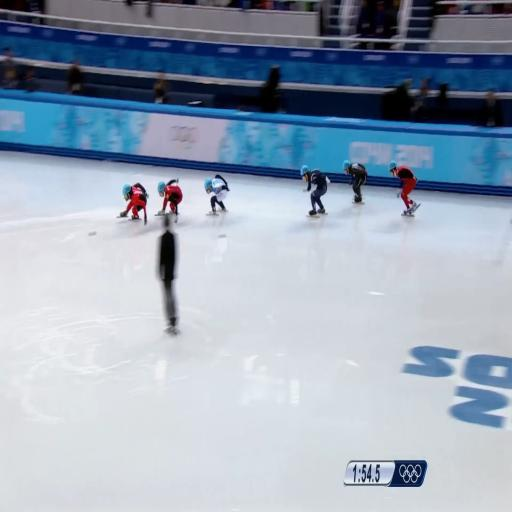Skater: (389, 161, 420, 216), (301, 165, 329, 216), (119, 183, 148, 224), (157, 179, 182, 222), (344, 160, 367, 203), (205, 174, 229, 215)
